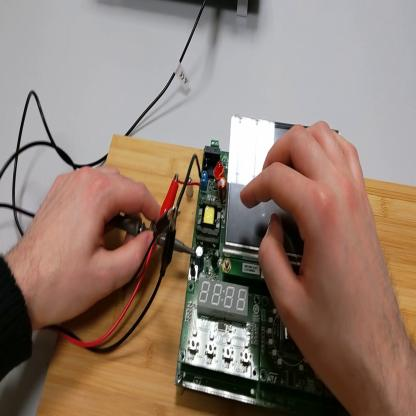hand: (238, 118, 401, 415), (8, 159, 164, 335)
low voltage board: (176, 116, 345, 414)
oscilloscope: (237, 2, 251, 20)
oscilloscope probe tip: (111, 215, 198, 261)
working area: (37, 135, 416, 416)
